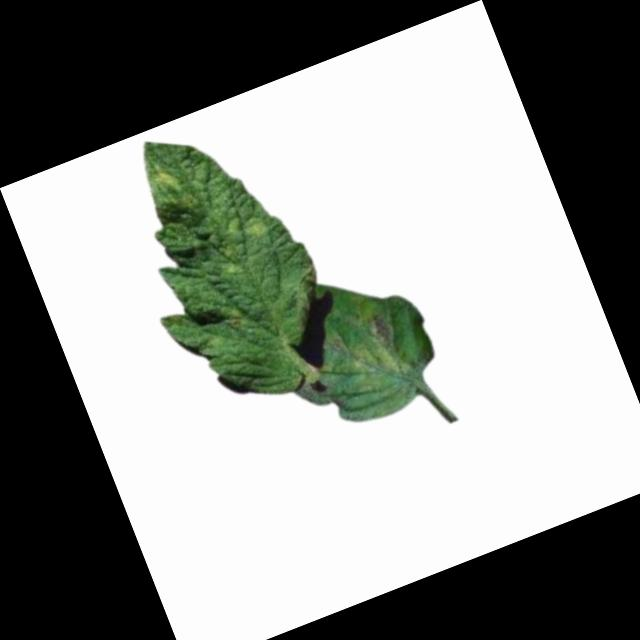Leaf_Mold: (339, 309, 413, 394), (150, 164, 183, 200), (239, 212, 270, 246)
